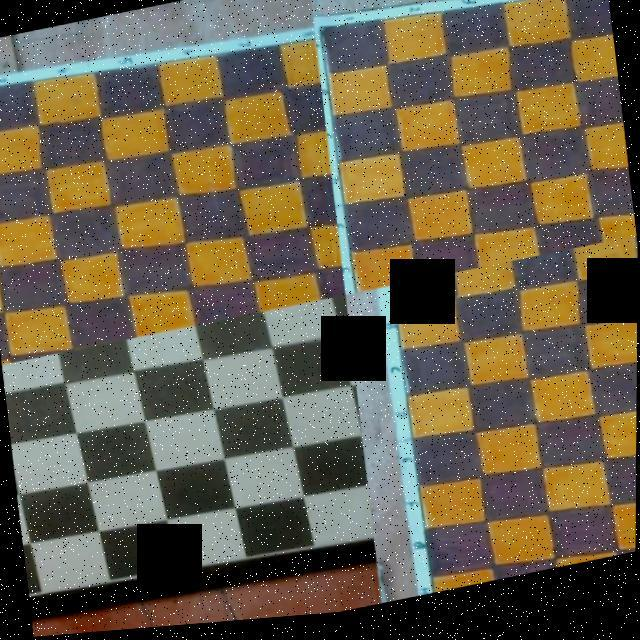chess-table-corners: (316, 39, 326, 49), (388, 290, 398, 296), (632, 248, 638, 258), (604, 5, 609, 13), (311, 42, 315, 50), (370, 545, 374, 551), (342, 301, 344, 303)
